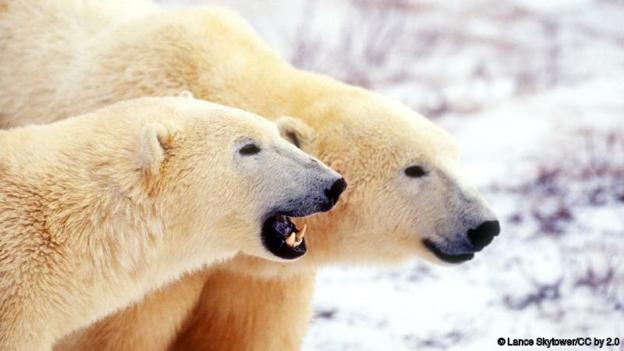Polar Bear: (1, 103, 351, 349)
